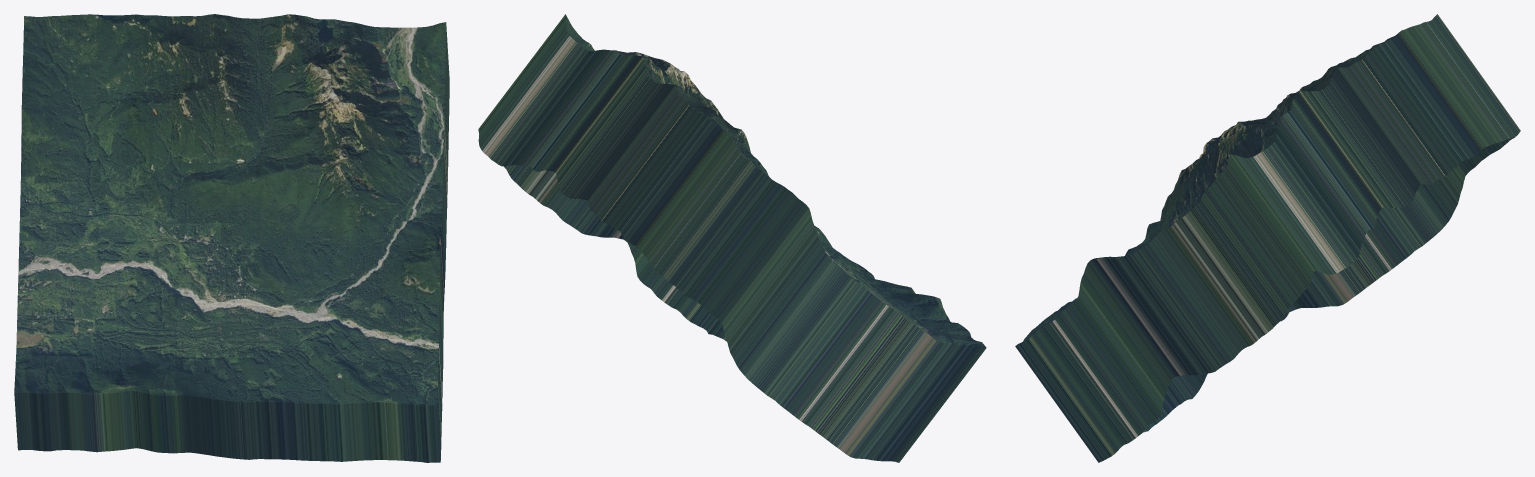
3 renders of one model, left to right at view 1: azimuth 30°, elevation 25°; view 2: azimuth 150°, elevation 25°; view 3: azimuth 270°, elevation 25°, orthographic. The views are drawn at different scales.
Size of the model in its own units: 10961 by 8143 by 10571.
Materials: 1 (1 with a texture image).
